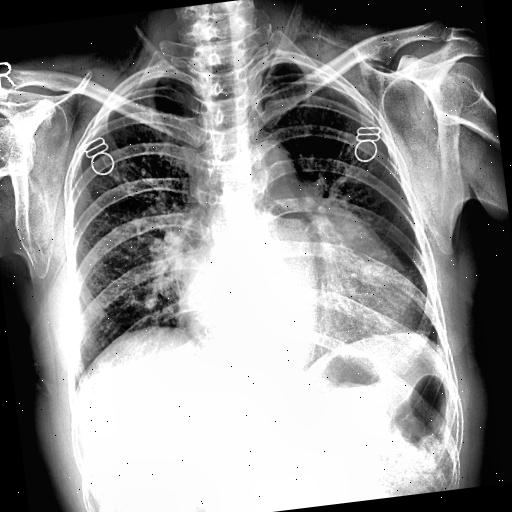0- Aortic enlargement: (236, 138, 298, 200), (250, 138, 296, 182)
3- Cardiomegaly: (170, 218, 429, 368), (178, 226, 422, 360), (174, 252, 386, 364)
7- Lung Opacity: (304, 173, 420, 305)
